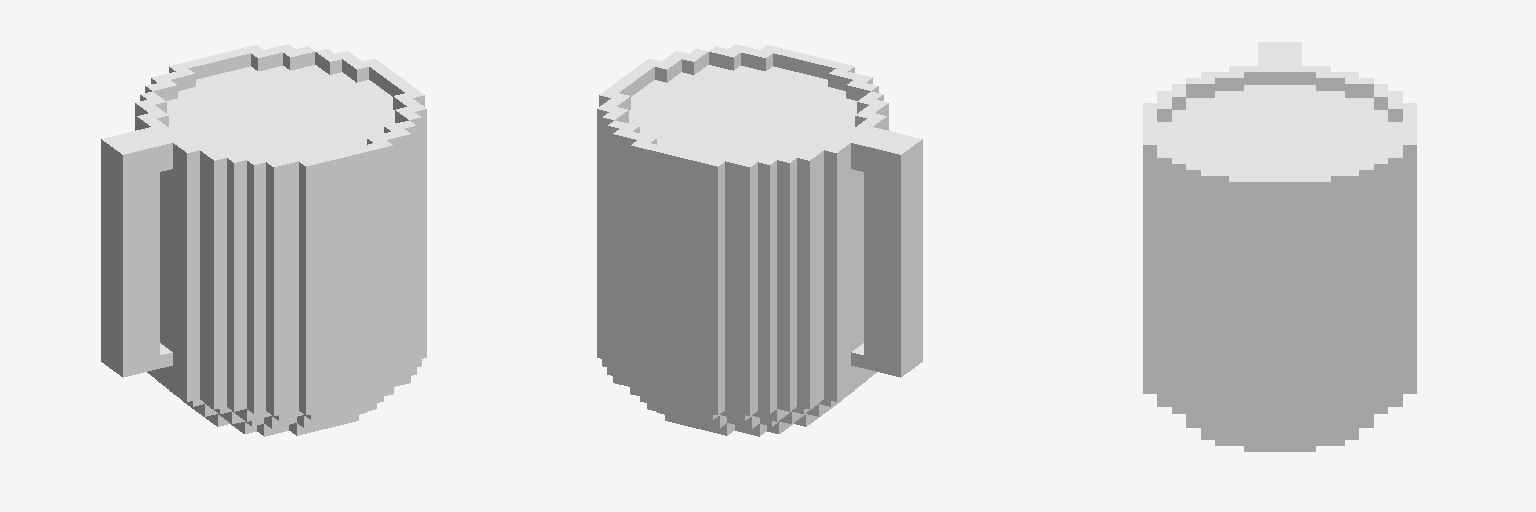
Rendered from Taza3.obj.
3 renders of one model, left to right at view 1: azimuth 30°, elevation 25°; view 2: azimuth 150°, elevation 25°; view 3: azimuth 270°, elevation 25°, orthographic.
Parts seen in each view (by area): view 1: object 1; view 2: object 1; view 3: object 1.
Boxes of the visible parts, box(x1,y1,x2,y2) form: object 1: box(101, 44, 426, 436); object 1: box(597, 44, 922, 436); object 1: box(1143, 42, 1416, 451).
Bounding box in the file's own units: 2.3 × 2.2 × 1.9.